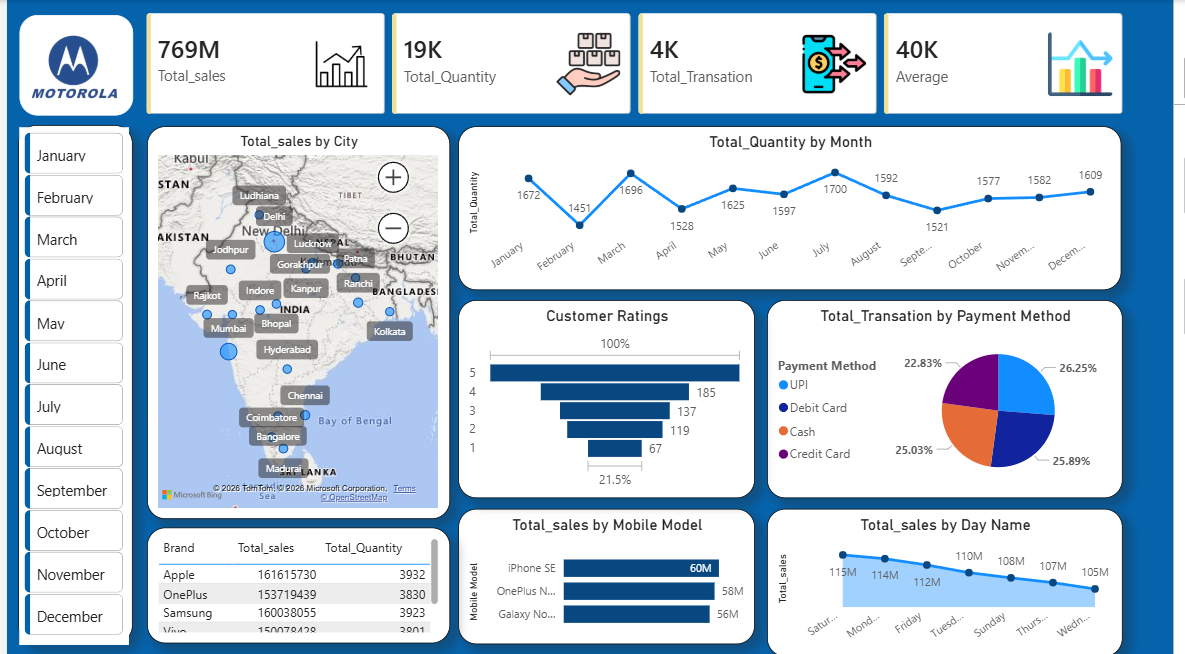

The page's visual inventory and layout, read from the dashboard file:
{"tool":"powerbi","page":{"name":"Page 1","canvas":[1280,720],"ordinal":0},"visuals":[{"type":"shape","box":[13.6,16.4,125,110],"z":0},{"type":"shape","box":[12.9,137.9,125.7,569.3],"z":1000},{"type":"advancedSlicerVisual","fields":{"Values":["Sales_data.Date.Variation.Date Hierarchy.Month"]},"box":[13.6,139.3,120,567.9],"z":2000},{"type":"image","box":[17.9,16.4,111.4,110],"z":3000},{"type":"cardVisual","fields":{"Data":["Sales_data.Total_sales","Sales_data.Total_Quantity","Sales_data.Total_Transation","Sales_data.Average"]},"box":[139.2,0,1100,139.2],"z":4000},{"type":"map","fields":{"Category":["Sales_data.City"],"Size":["Sales_data.Total_sales"]},"box":[154.1,139.2,332.4,431.1],"z":5000},{"type":"lineChart","fields":{"Category":["Sales_data.Date.Variation.Date Hierarchy.Month","Sales_data.Date.Variation.Date Hierarchy.Day"],"Y":["Sales_data.Total_Quantity"]},"box":[495.9,139.2,728.4,179.7],"z":6000},{"type":"clusteredBarChart","fields":{"Category":["Sales_data.Mobile Model"],"Y":["Sales_data.Total_sales"]},"box":[495.9,558.1,325.7,148.6],"z":7000},{"type":"pieChart","fields":{"Category":["Sales_data.Payment Method"],"Y":["Sales_data.Total_Transation"]},"box":[833.8,329.7,390.5,217.6],"z":8000},{"type":"funnel","title":"Customer Ratings","fields":{"Category":["Sales_data.Customer Ratings"],"Y":["CountNonNull(Sales_data.Customer Ratings)"]},"box":[495.9,329.7,325.7,217.6],"z":9000},{"type":"areaChart","fields":{"Category":["Sales_data.Day Name"],"Y":["Sales_data.Total_sales"]},"box":[833.8,558.1,390.5,162.2],"z":10000},{"type":"tableEx","fields":{"Values":["Sales_data.Brand","Sales_data.Total_sales","Sales_data.Total_Quantity"]},"box":[154.1,579.7,332.4,127],"z":11000}]}

Visuals, with their boxes in screenshot pixels (x1, y1, x2, y2), scaled from the page's 1280x720 canvas onto the 1185x654 screenshot:
shape: detection(13, 15, 128, 115)
shape: detection(12, 125, 128, 642)
advancedSlicerVisual - Sales_data.Date.Variation.Date Hierarchy.Month: detection(13, 127, 124, 642)
image: detection(17, 15, 120, 115)
cardVisual - Sales_data.Total_sales x Sales_data.Total_Quantity: detection(129, 0, 1147, 126)
map - Sales_data.City x Sales_data.Total_sales: detection(143, 126, 450, 518)
lineChart - Sales_data.Date.Variation.Date Hierarchy.Month x Sales_data.Date.Variation.Date Hierarchy.Day: detection(459, 126, 1133, 290)
clusteredBarChart - Sales_data.Mobile Model x Sales_data.Total_sales: detection(459, 507, 761, 642)
pieChart - Sales_data.Payment Method x Sales_data.Total_Transation: detection(772, 299, 1133, 497)
"Customer Ratings" funnel: detection(459, 299, 761, 497)
areaChart - Sales_data.Day Name x Sales_data.Total_sales: detection(772, 507, 1133, 653)
tableEx - Sales_data.Brand x Sales_data.Total_sales: detection(143, 527, 450, 642)
